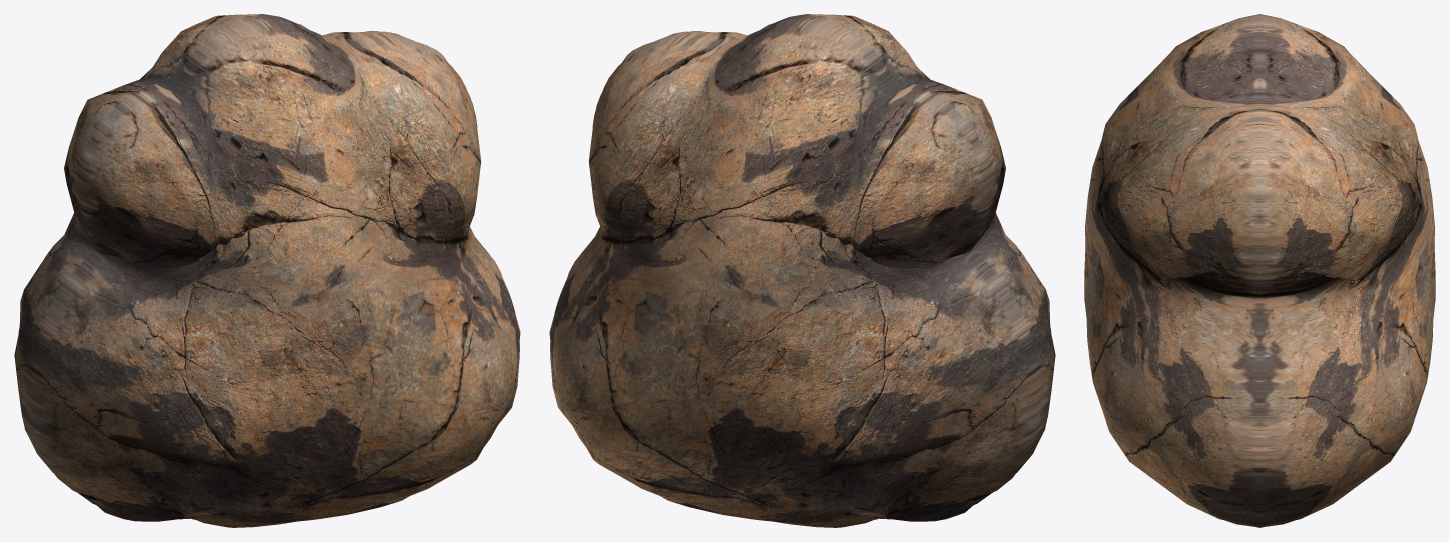
Rendered from rocher-1.glb.
3 renders of one model, left to right at view 1: azimuth 30°, elevation 25°; view 2: azimuth 150°, elevation 25°; view 3: azimuth 270°, elevation 25°, orthographic. The views are drawn at different scales.
Visible parts, largest first — view 1: rocher-1; view 2: rocher-1; view 3: rocher-1.
Boxes of the visible parts, left/top/right/bottom form: rocher-1: left=14, top=14, right=520, bottom=527; rocher-1: left=549, top=14, right=1055, bottom=527; rocher-1: left=1084, top=14, right=1435, bottom=527.
Size of the model in its own units: 1.6 by 1.6 by 1.16.
1 material, 1 textured.
